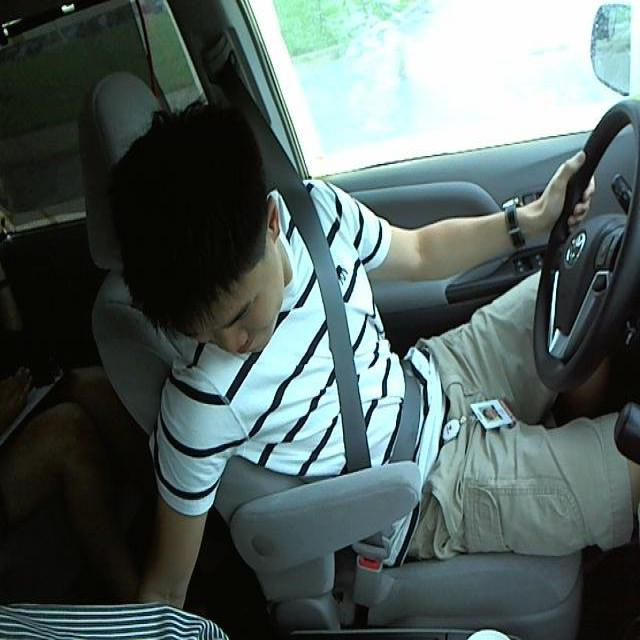seatbelt: (287, 197, 437, 460)
